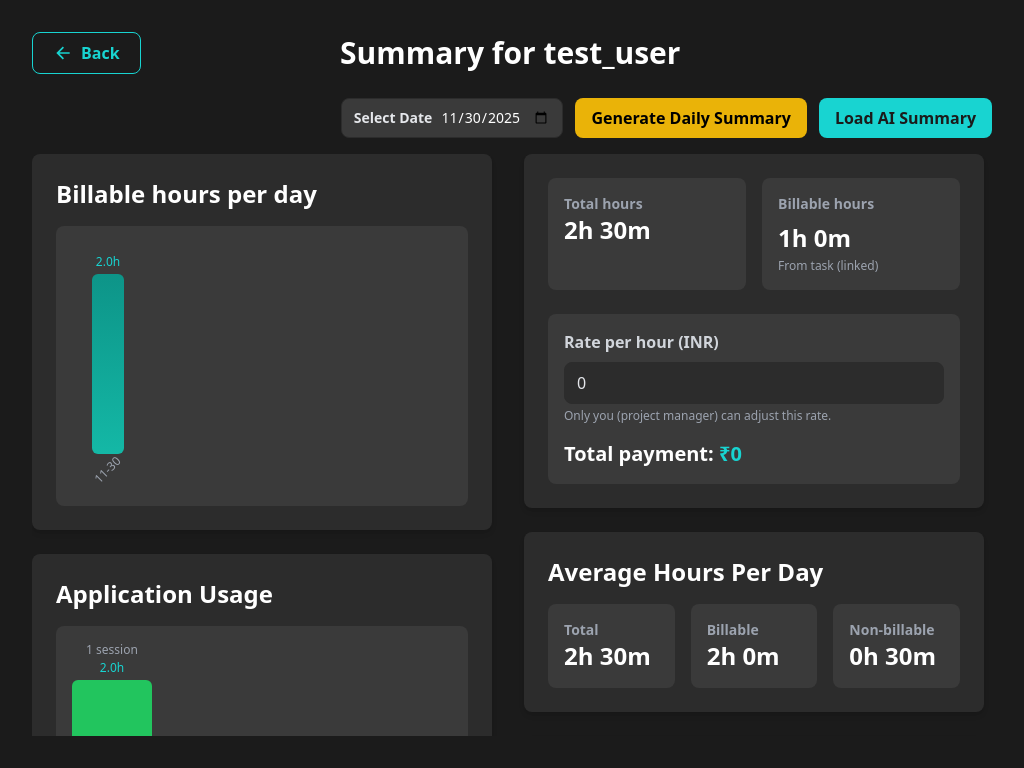
Test: AISummaryPage Component › handles API errors for AI summary
Click the button "Load AI Summary": [905, 118] box top-left (819, 98), bottom-right (992, 138)
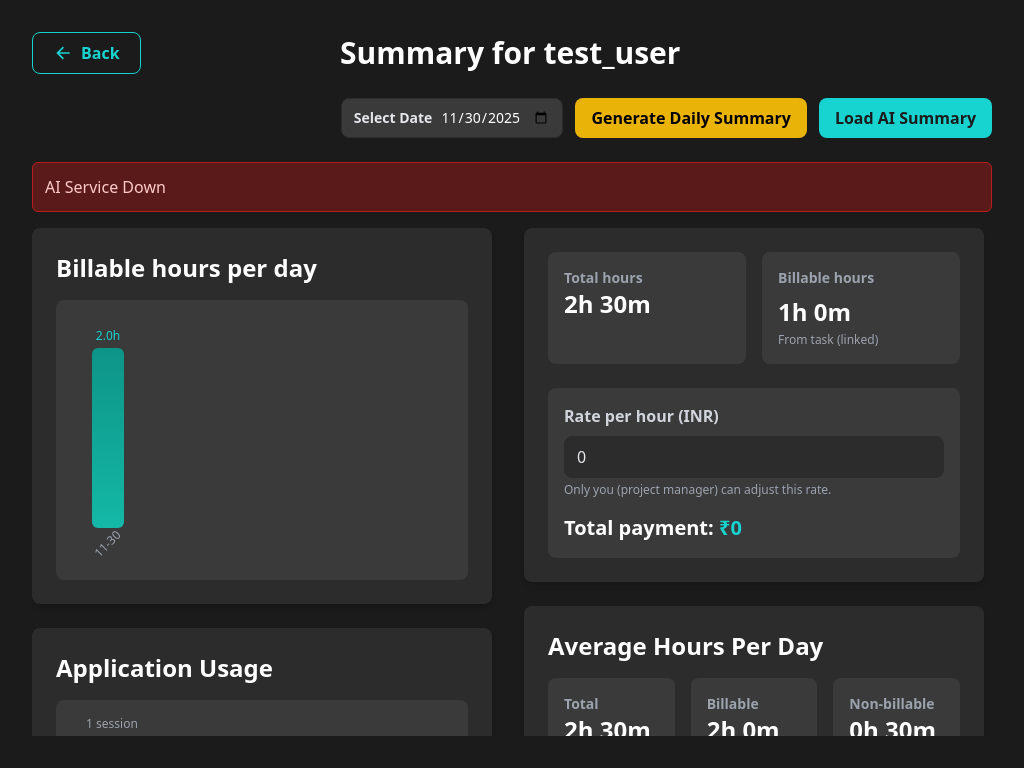
Expected: the text "AI Service Down" is shown, top-left (32, 162), bottom-right (992, 212)
